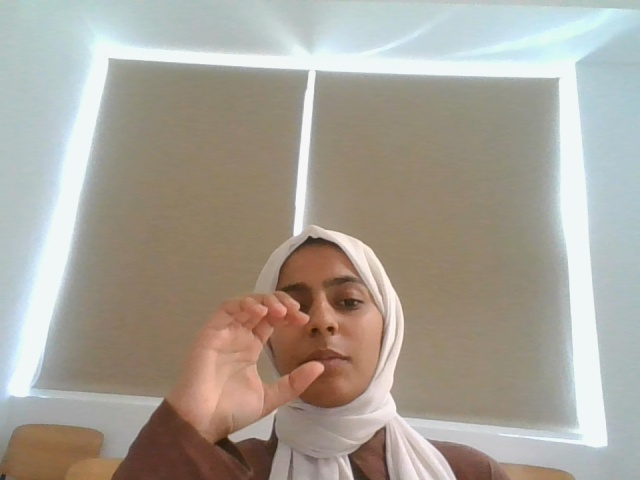drink: (185, 279, 330, 426)
